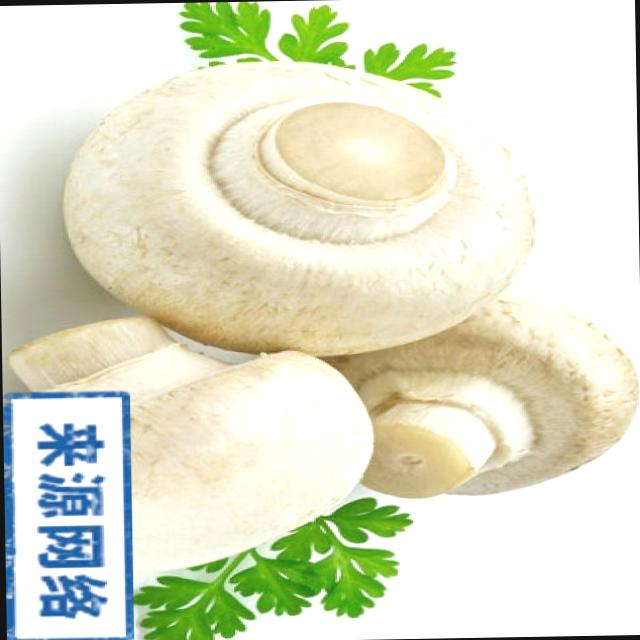Agaricus bisporus: (59, 58, 536, 358), (15, 323, 375, 574), (356, 278, 640, 500)
